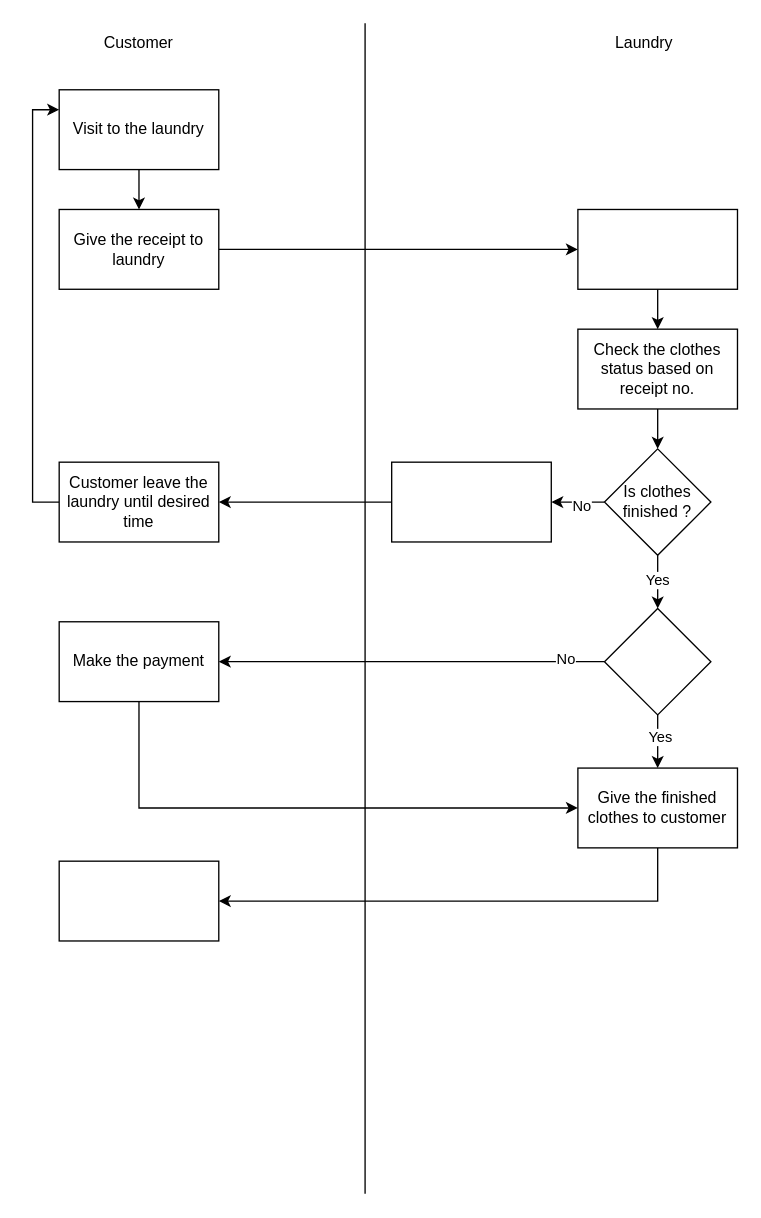
Some shapes in this 761 by 1218 pixel diagram are drawn without their labels. Here are the shapes that lost their labels. From the top down, the box of each, then its label:
(577, 208, 737, 289): Receive the receipt from customer
(390, 461, 551, 542): Give the latest status to customer
(603, 607, 711, 715): Is paid ?
(58, 860, 219, 941): Receive the finished clothes from laundry
